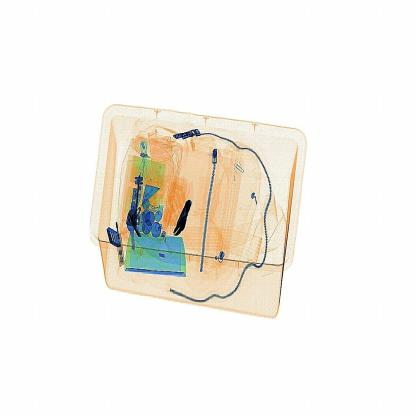knife: (170, 188, 196, 245)
